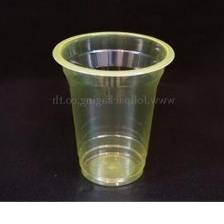glass: (42, 26, 179, 189)
